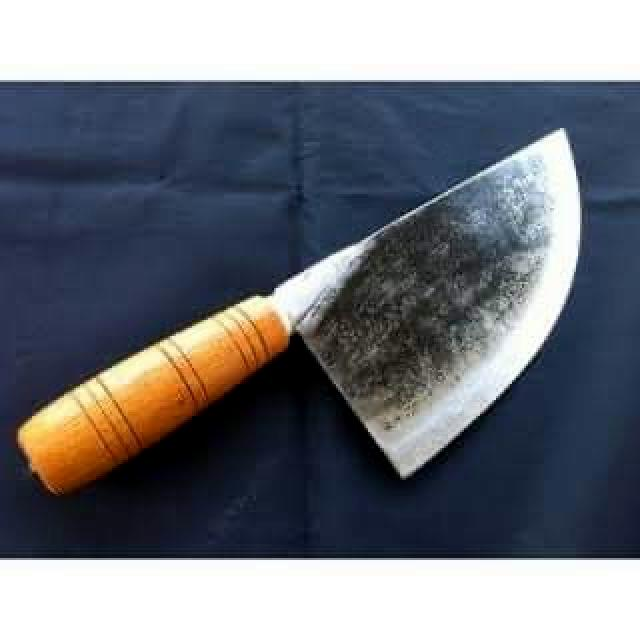knife: (4, 120, 590, 502)
